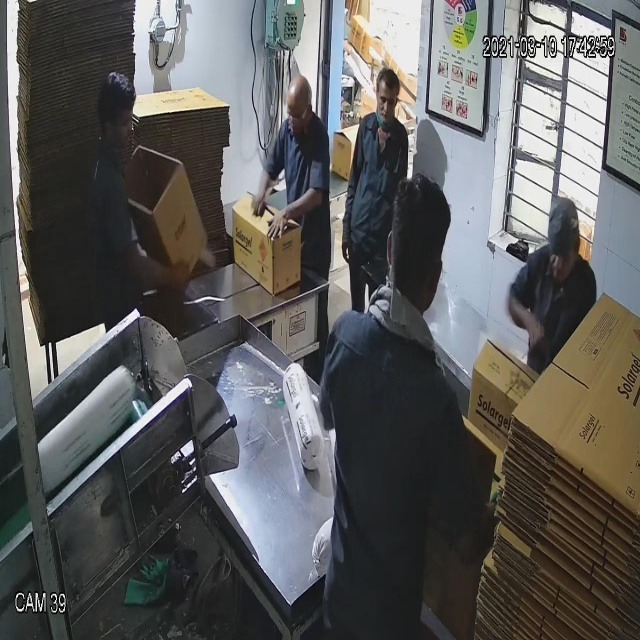Sin_guantes: (124, 228, 193, 305), (266, 186, 336, 254), (504, 276, 547, 366)
